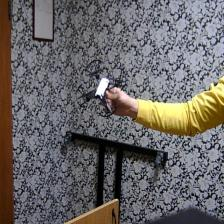drone: (76, 57, 130, 119)
